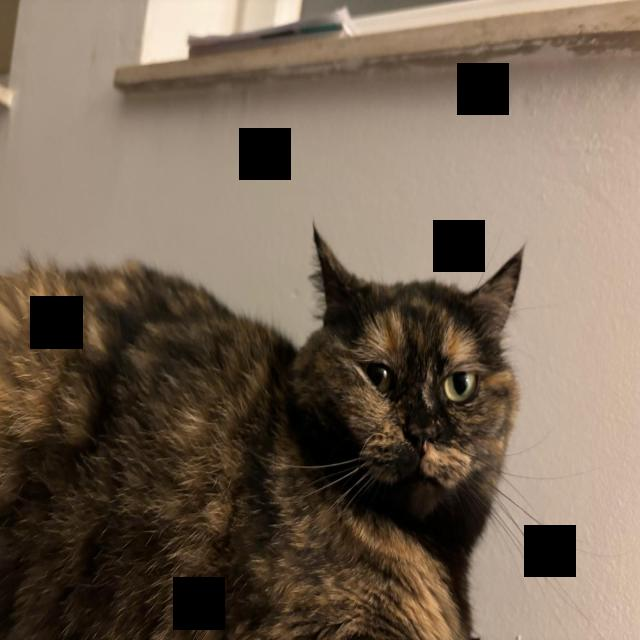authorized: (0, 219, 595, 639)
